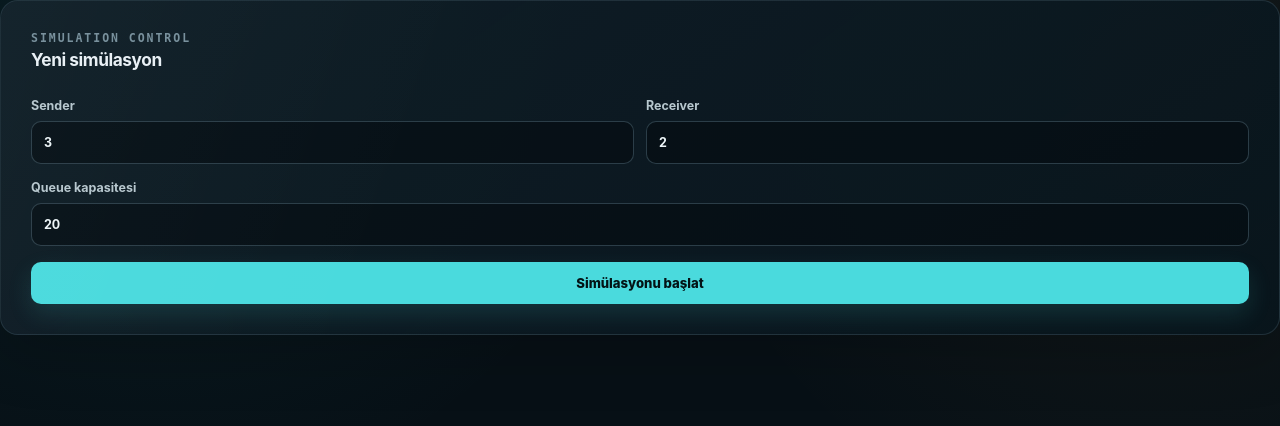
Test case: StartSimulationForm › shows client validation errors and blocks an invalid request
The image size is (1280, 426).
Replace the text in the number field labelled "Sender" with "-1" at (332, 142), box [31,121,634,164]
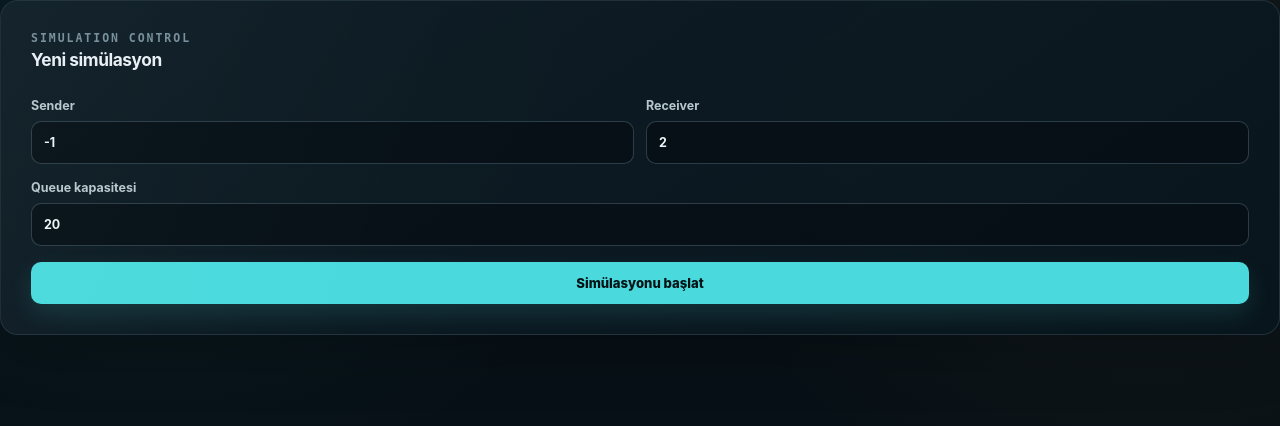
Replace the text in the number field labelled "Receiver" with "0" at (948, 142), box [646,121,1249,164]
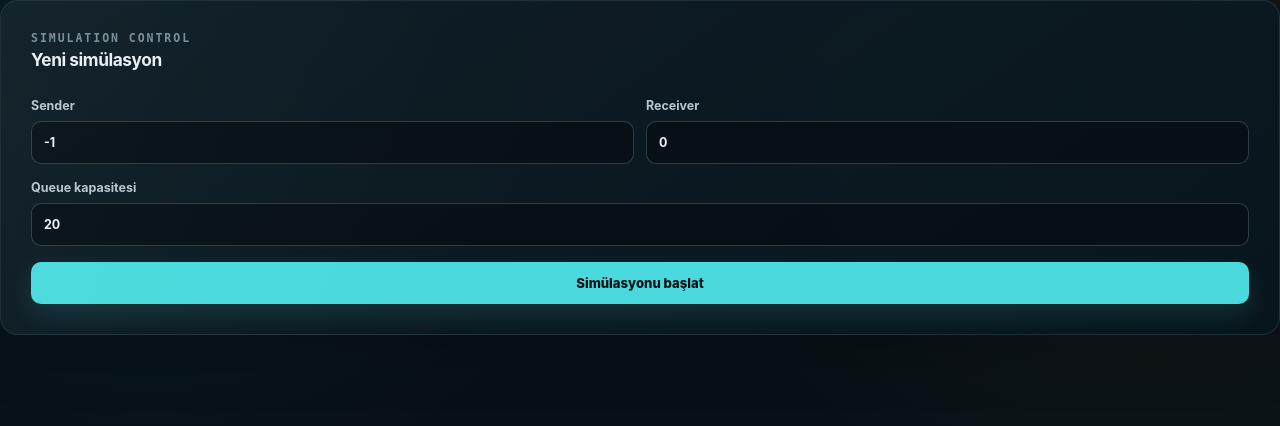
Replace the text in the number field labelled "Queue kapasitesi" with "0" at (640, 224), box [31,203,1249,246]
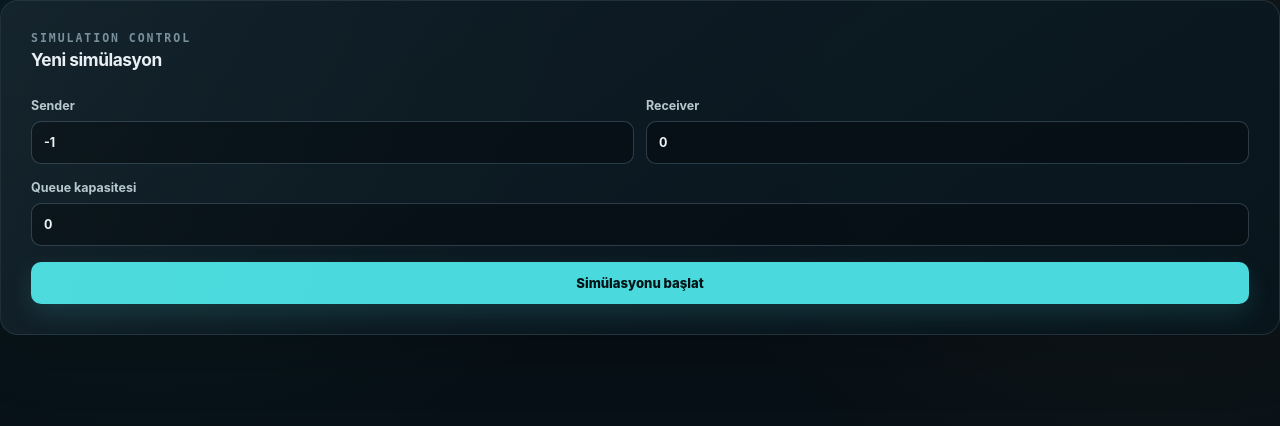
Click the button "Simülasyonu başlat" at (640, 283), box [31,262,1249,304]
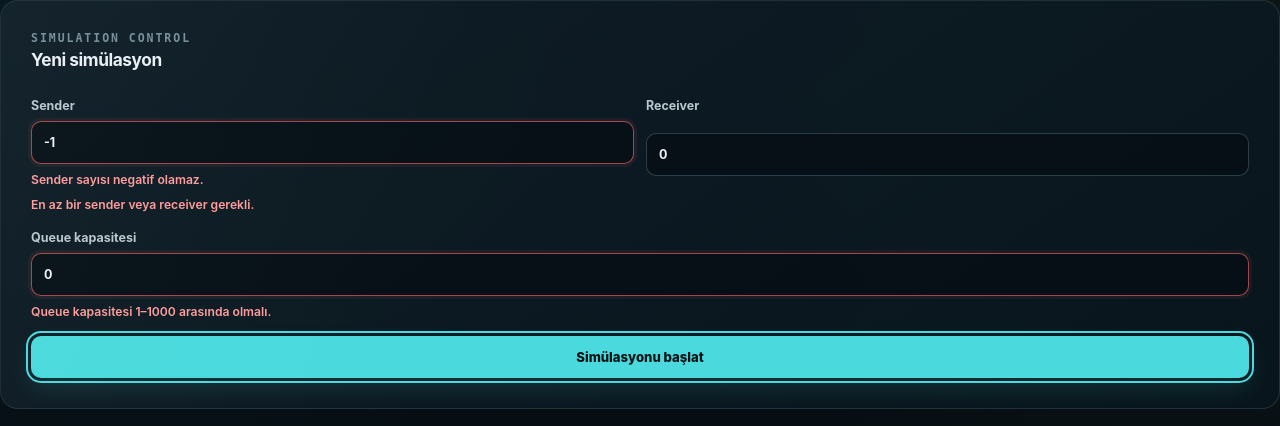
expect the text "Sender sayısı negatif olamaz." is shown: met, box [31,172,204,187]
expect the text "Queue kapasitesi 1–1000 arasında olmalı." is shown: met, box [31,304,271,318]
expect the text "En az bir sender veya receiver gerekli." is shown: met, box [31,197,254,212]
